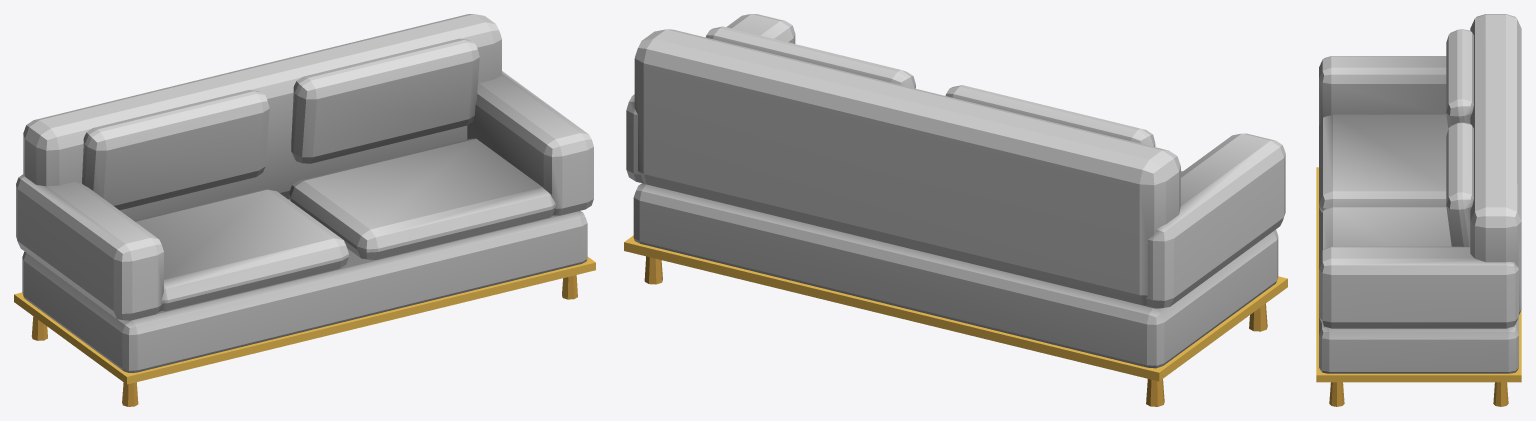
Rendered from lounge-seating.glb.
The picture shows the model from 3 angles, left to right: view 1: azimuth 30°, elevation 25°; view 2: azimuth 150°, elevation 25°; view 3: azimuth 270°, elevation 25°; orthographic projection. The views are drawn at different scales.
Visible parts, largest first — view 1: lounge-seating_lod0; view 2: lounge-seating_lod0; view 3: lounge-seating_lod0.
Boxes of the visible parts, x1,y1,x2,y2 form: lounge-seating_lod0: [14, 14, 595, 406]; lounge-seating_lod0: [624, 14, 1287, 406]; lounge-seating_lod0: [1316, 14, 1521, 406].
Size of what is drawn, in the model's own units: 1.96 by 0.8398 by 0.8008.
